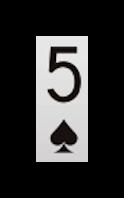5S: (41, 41, 85, 158)
